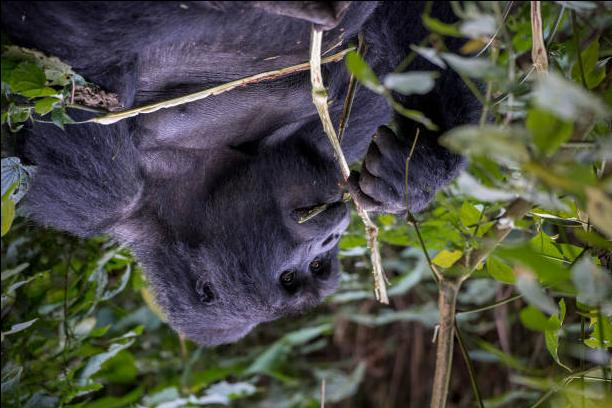goriile_montagne: (19, 0, 420, 342)
